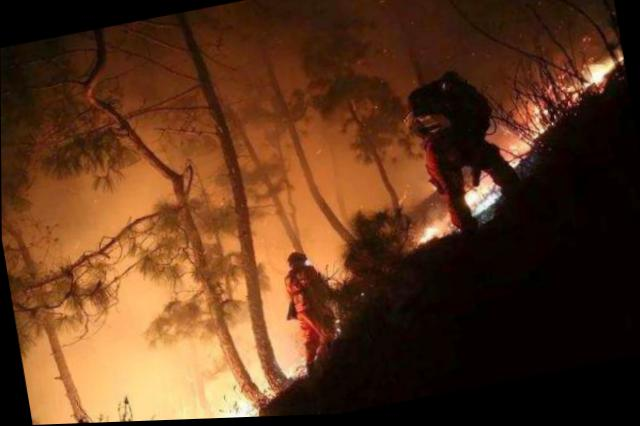fire: (365, 43, 639, 268), (152, 381, 262, 419)
